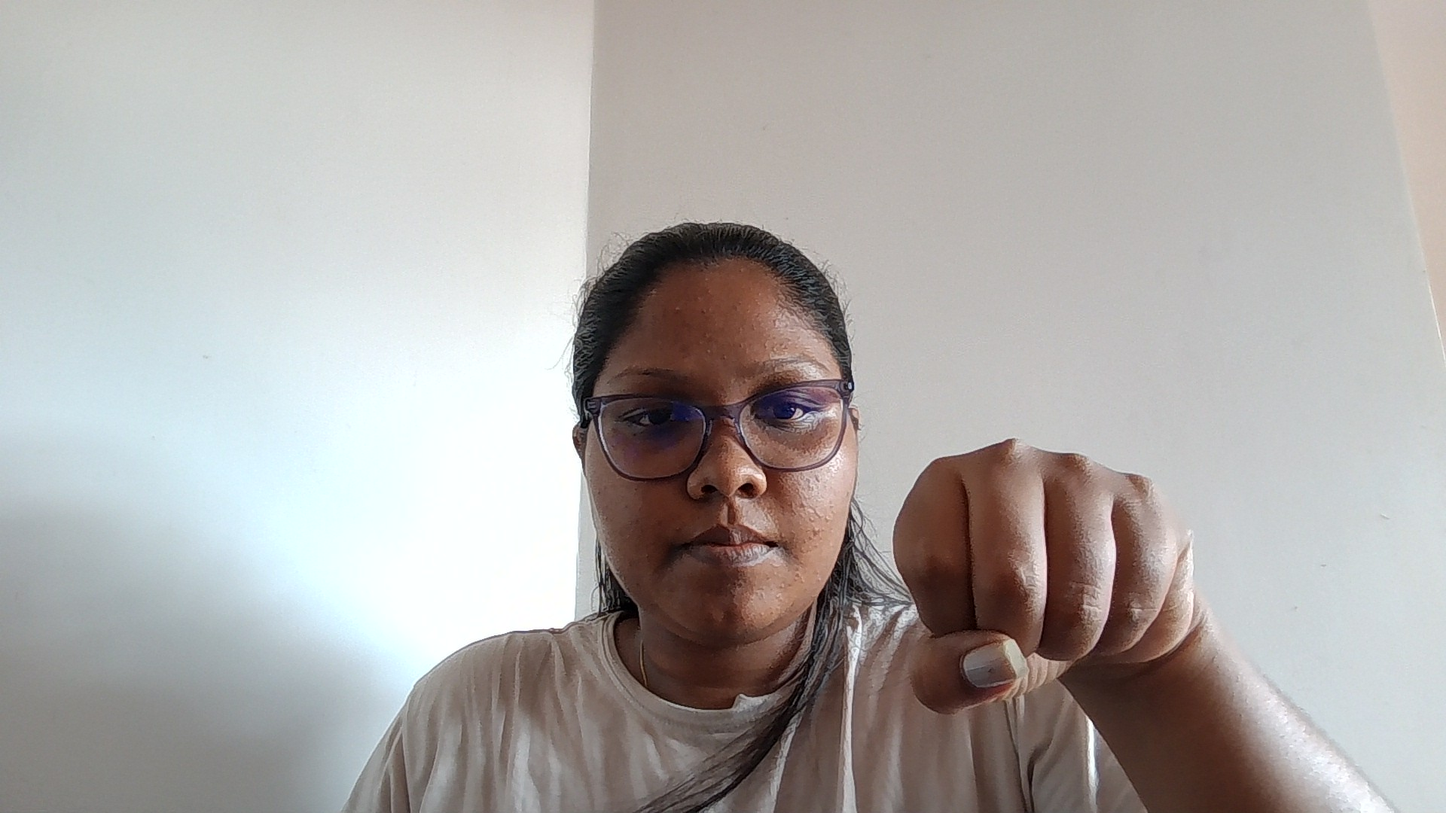Yes: (883, 359, 1241, 777)
